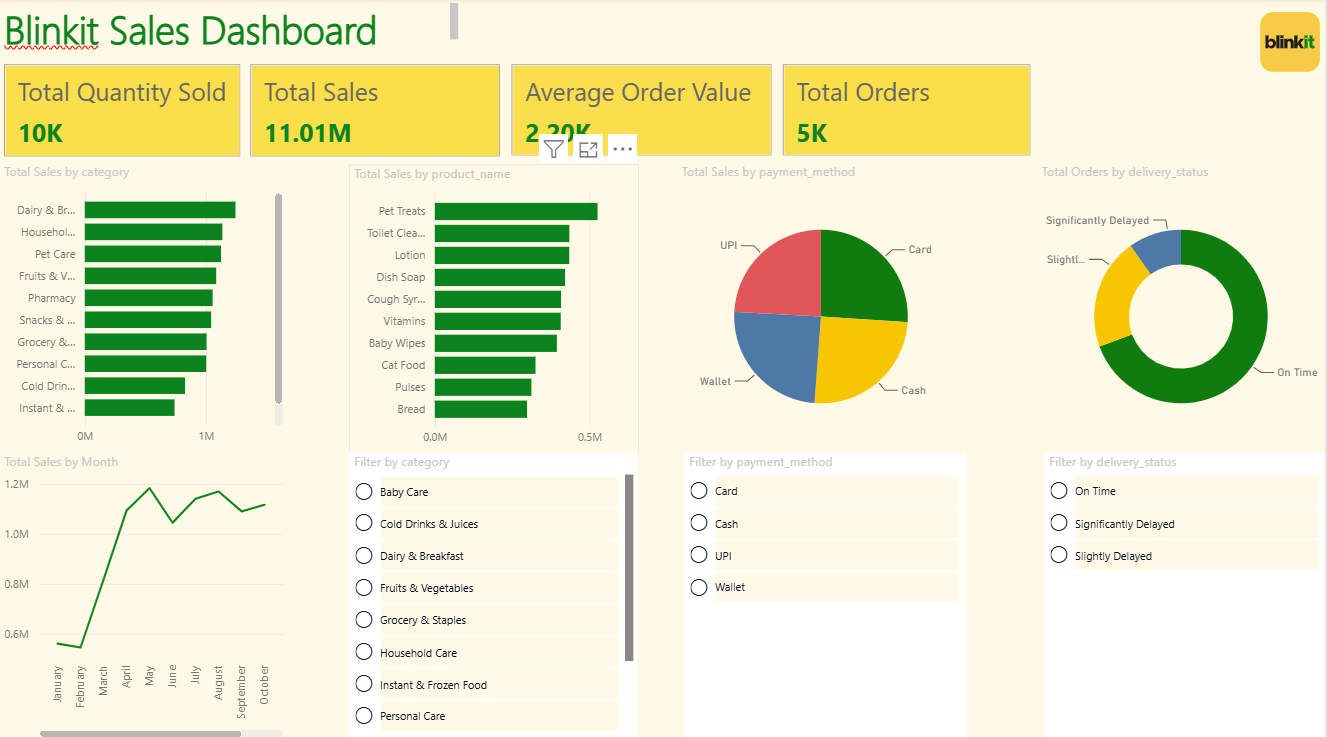

This screenshot's page, from the dashboard's own definition file:
{"tool":"powerbi","page":{"name":"Dashboard","canvas":[1280,720],"ordinal":0},"visuals":[{"type":"cardVisual","fields":{"Data":["blinkit_order_items.Total Sales"]},"box":[238.1,58.8,251.4,100],"z":0},{"type":"cardVisual","fields":{"Data":["blinkit_order_items.Total Orders"]},"box":[751.1,58.8,249.9,98.5],"z":1000},{"type":"cardVisual","fields":{"Data":["blinkit_order_items.Total Quantity Sold"]},"box":[0,58.8,238.1,100],"z":2000},{"type":"cardVisual","fields":{"Data":["blinkit_order_items.Average Order Value"]},"box":[489.5,58.8,261.6,98.5],"z":3000},{"type":"clusteredBarChart","fields":{"Category":["blinkit_products.category"],"Y":["blinkit_order_items.Total Sales"]},"box":[0,158.8,279.3,280.8],"z":3001},{"type":"pieChart","fields":{"Category":["blinkit_orders.payment_method"],"Y":["blinkit_order_items.Total Sales"]},"box":[654.1,158.8,279.3,280.8],"z":3002},{"type":"donutChart","fields":{"Category":["blinkit_orders.delivery_status"],"Y":["blinkit_order_items.Total Orders"]},"box":[1001,158.8,279.3,280.8],"z":3003},{"type":"clusteredBarChart","fields":{"Category":["blinkit_products.product_name"],"Y":["blinkit_order_items.Total Sales"]},"box":[338.1,160.2,279.3,280.8],"z":3004},{"type":"lineChart","fields":{"Y":["blinkit_order_items.Total Sales"],"Category":["blinkit_orders.order_date.Variation.Date Hierarchy.Month"]},"box":[0,439.5,279.3,280.8],"z":3005},{"type":"listSlicer","title":"Filter by category","fields":{"Values":["blinkit_products.category"]},"box":[338.1,439.5,279.3,280.8],"z":3006},{"type":"listSlicer","title":"Filter by payment_method","fields":{"Values":["blinkit_orders.payment_method"]},"box":[661.5,439.5,271.9,280.8],"z":3007},{"type":"listSlicer","title":"Filter by delivery_status","fields":{"Values":["blinkit_orders.delivery_status"]},"box":[1008.4,439.5,271.9,280.8],"z":3008},{"type":"textbox","box":[0,0,448.3,58.8],"z":3009},{"type":"image","box":[1212.7,7.3,67.6,70.6],"z":3010}]}

Visuals, with their boxes in screenshot pixels (x1, y1, x2, y2), scaled from the page's 1280x720 canvas onto the 1327x737 screenshot:
cardVisual - blinkit_order_items.Total Sales: box=[247, 60, 507, 163]
cardVisual - blinkit_order_items.Total Orders: box=[779, 60, 1038, 161]
cardVisual - blinkit_order_items.Total Quantity Sold: box=[0, 60, 247, 163]
cardVisual - blinkit_order_items.Average Order Value: box=[507, 60, 779, 161]
clusteredBarChart - blinkit_products.category x blinkit_order_items.Total Sales: box=[0, 163, 290, 450]
pieChart - blinkit_orders.payment_method x blinkit_order_items.Total Sales: box=[678, 163, 968, 450]
donutChart - blinkit_orders.delivery_status x blinkit_order_items.Total Orders: box=[1038, 163, 1326, 450]
clusteredBarChart - blinkit_products.product_name x blinkit_order_items.Total Sales: box=[351, 164, 640, 451]
lineChart - blinkit_order_items.Total Sales x blinkit_orders.order_date.Variation.Date Hierarchy.Month: box=[0, 450, 290, 736]
"Filter by category" listSlicer: box=[351, 450, 640, 736]
"Filter by payment_method" listSlicer: box=[686, 450, 968, 736]
"Filter by delivery_status" listSlicer: box=[1045, 450, 1326, 736]
textbox: box=[0, 0, 465, 60]
image: box=[1257, 7, 1326, 80]
